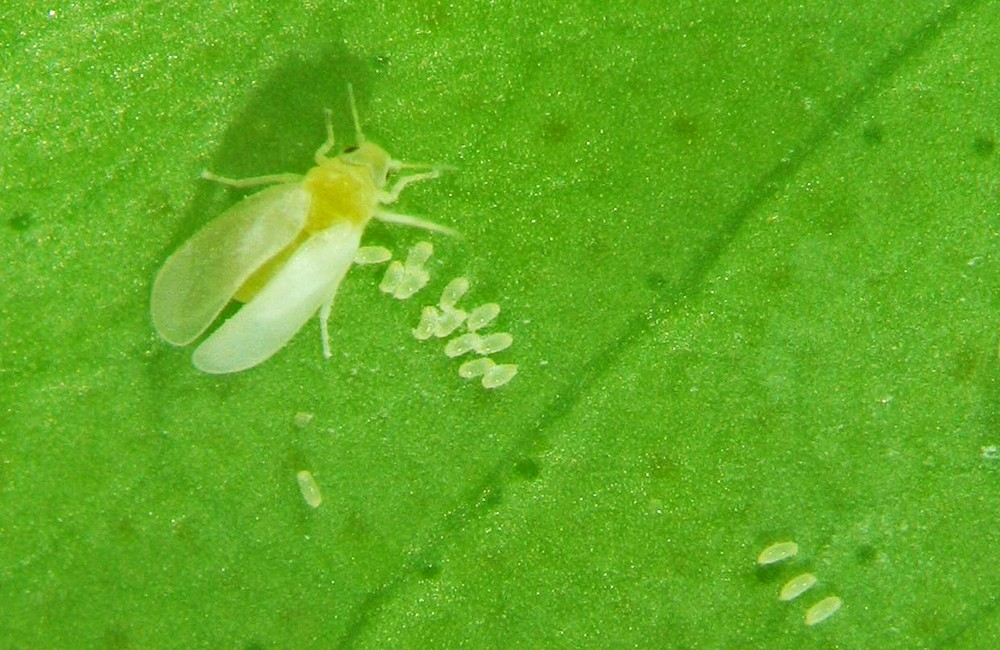Mosca Blanca: (129, 92, 467, 397)
